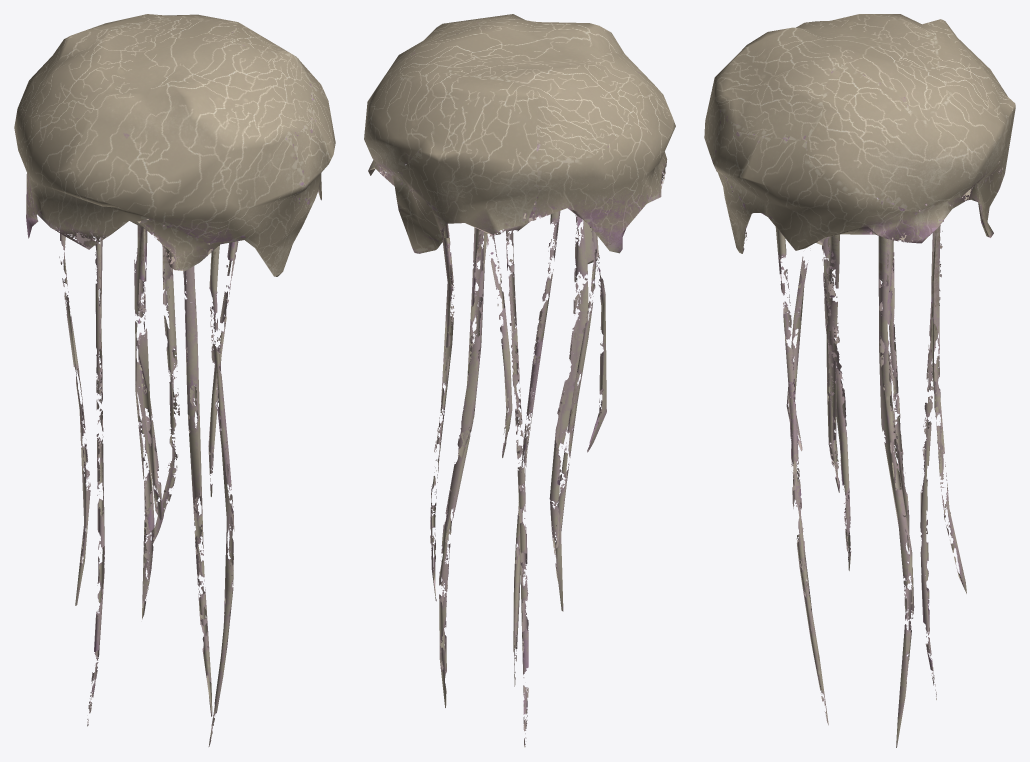
Rendered from SM_Jellyfish_01.FBX.
3 views of the same model, side by side, from view 1: azimuth 30°, elevation 25°; view 2: azimuth 150°, elevation 25°; view 3: azimuth 270°, elevation 25° (orthographic). The views are drawn at different scales.
Visible parts, largest first — view 1: SM_Jellyfish_01; view 2: SM_Jellyfish_01; view 3: SM_Jellyfish_01.
Part boxes in pixels (x1=…): SM_Jellyfish_01: x1=14, y1=14, x2=335, y2=746; SM_Jellyfish_01: x1=364, y1=14, x2=675, y2=747; SM_Jellyfish_01: x1=704, y1=14, x2=1015, y2=747.
Size of the model in its own units: 20.04 by 19.43 by 47.11.
